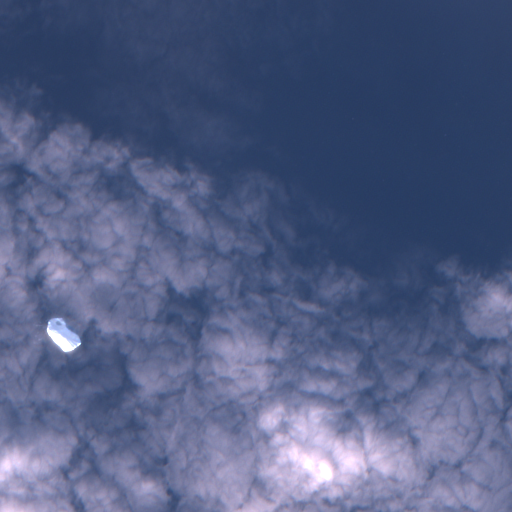Iceberg: (47, 318, 80, 351)
